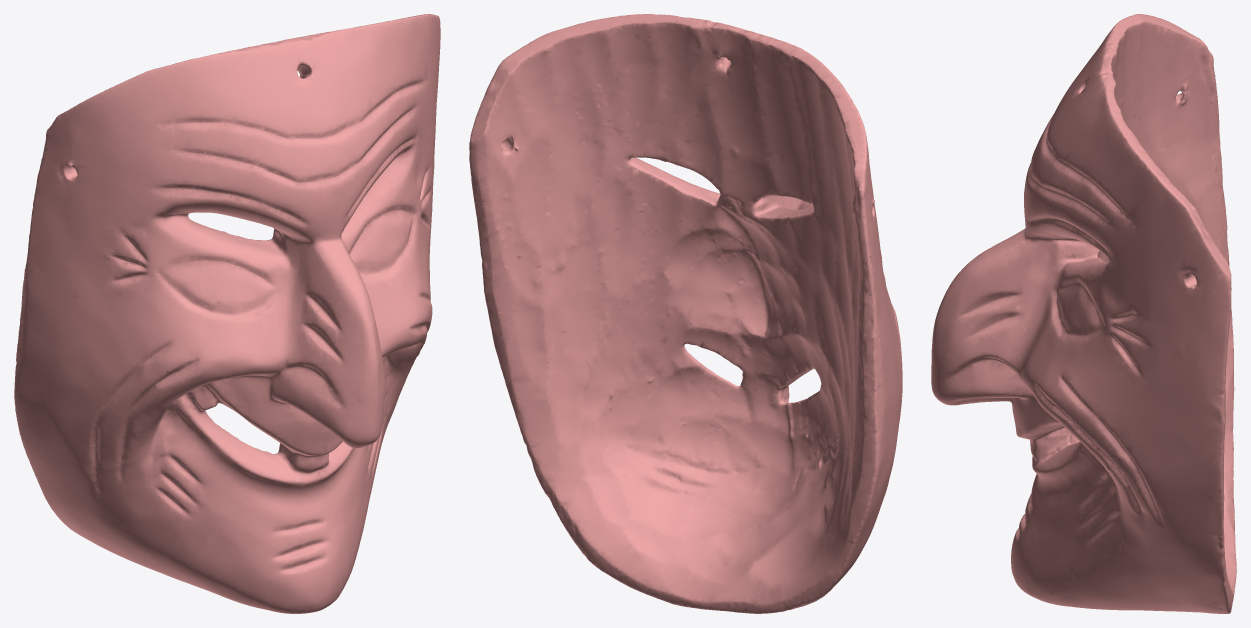
File: mask_e3f411a7.glb
3 renders of one model, left to right at view 1: azimuth 30°, elevation 25°; view 2: azimuth 150°, elevation 25°; view 3: azimuth 270°, elevation 25°, orthographic.
Visible parts, largest first — view 1: Object_2; view 2: Object_2; view 3: Object_2.
Part boxes in pixels (box(x1,y1,x2,y2)): Object_2: box(14, 14, 440, 613); Object_2: box(469, 14, 902, 613); Object_2: box(931, 14, 1236, 613).
Size of the model in its own units: 29.19 by 36.56 by 18.79.
